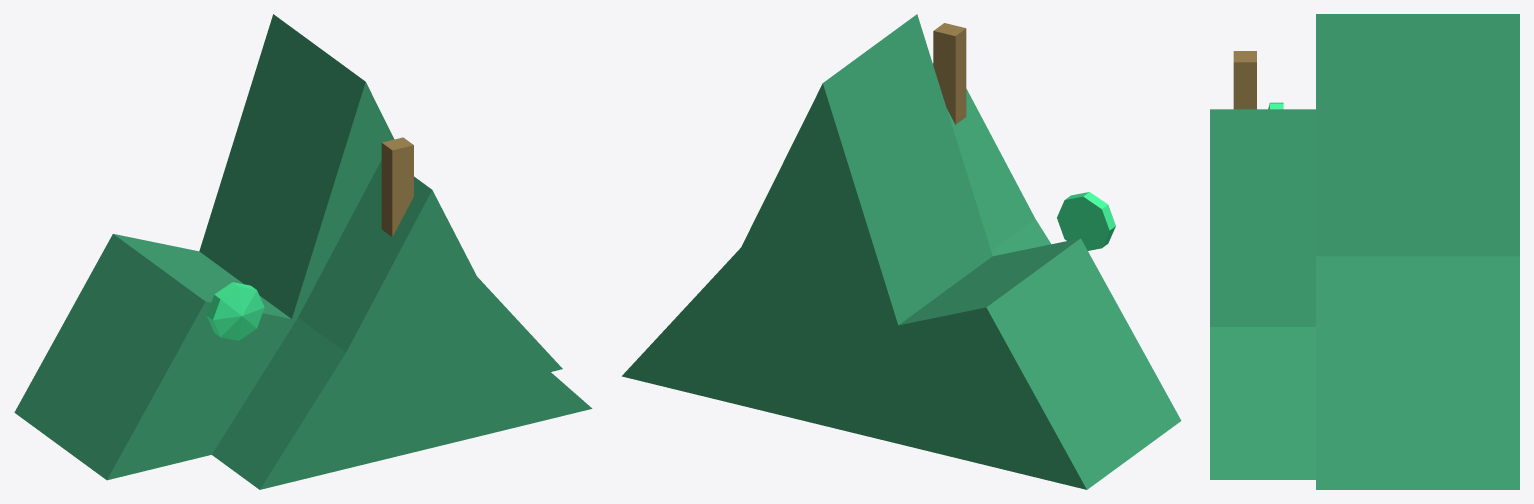
The model's file is mountain_peak.obj.
3 views of the same model, side by side, from view 1: azimuth 30°, elevation 25°; view 2: azimuth 150°, elevation 25°; view 3: azimuth 270°, elevation 25° (orthographic). The views are drawn at different scales.
Parts seen in each view (by area): view 1: mountain_crown_back_edge, mountain_crown_front, mountain_crown_back, mountain_crown_front_edge, peak_moon, peak_ridge, peak_ridge_edge; view 2: mountain_crown_back, mountain_crown_back_edge, mountain_crown_front_edge, peak_moon, peak_ridge, peak_ridge_edge; view 3: mountain_crown_back_edge, mountain_crown_front_edge, peak_ridge_edge.
Part boxes in pixels (left/top/right/bottom): mountain_crown_back_edge: left=14, top=14, right=365, bottom=479; mountain_crown_front: left=260, top=190, right=592, bottom=489; mountain_crown_back: left=107, top=82, right=562, bottom=480; mountain_crown_front_edge: left=212, top=160, right=431, bottom=489; peak_moon: left=206, top=282, right=264, bottom=340; peak_ridge: left=392, top=145, right=413, bottom=236; peak_ridge_edge: left=381, top=137, right=413, bottom=236; mountain_crown_back: left=622, top=83, right=1086, bottom=489; mountain_crown_back_edge: left=823, top=14, right=1181, bottom=489; mountain_crown_front_edge: left=932, top=63, right=1050, bottom=255; peak_moon: left=1057, top=192, right=1115, bottom=250; peak_ridge: left=933, top=31, right=955, bottom=124; peak_ridge_edge: left=934, top=23, right=966, bottom=124; mountain_crown_back_edge: left=1316, top=14, right=1519, bottom=489; mountain_crown_front_edge: left=1210, top=109, right=1315, bottom=479; peak_ridge_edge: left=1233, top=51, right=1256, bottom=109.
Size of the model in its own units: 0.74 by 0.52 by 0.395.
